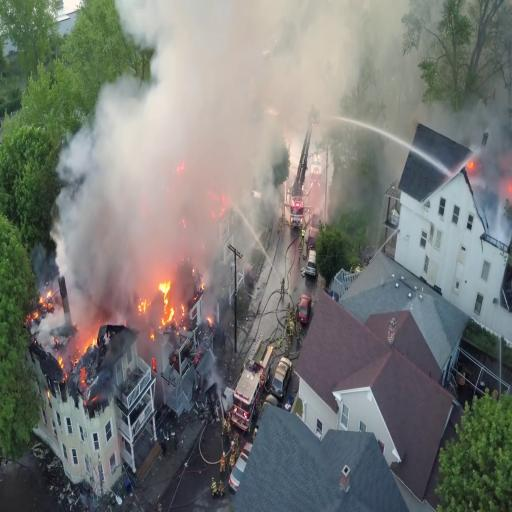fire: (158, 280, 178, 330)
smoke: (102, 88, 220, 262), (164, 6, 283, 169)
